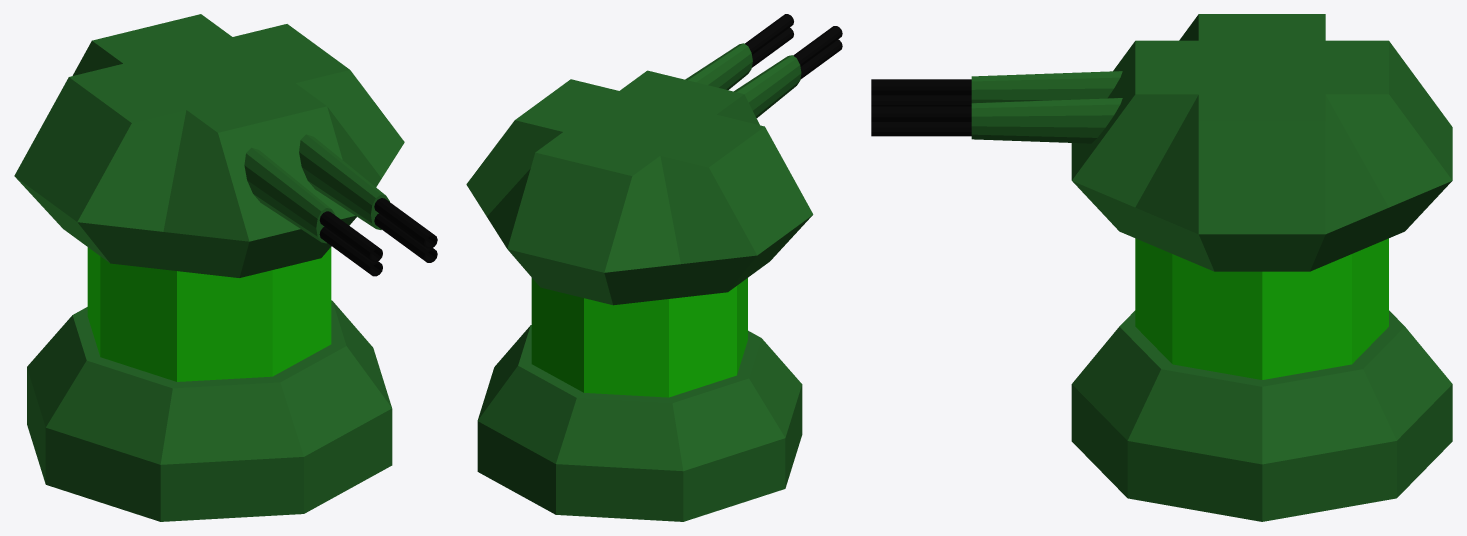
Rendered from Turret1_1.glb.
3 renders of one model, left to right at view 1: azimuth 30°, elevation 25°; view 2: azimuth 150°, elevation 25°; view 3: azimuth 270°, elevation 25°, orthographic. The views are drawn at different scales.
Visible parts, largest first — view 1: TurretUpgradePath1_1; view 2: TurretUpgradePath1_1; view 3: TurretUpgradePath1_1.
Part boxes in pixels (left/top/right/bottom): TurretUpgradePath1_1: left=14, top=14, right=437, bottom=521; TurretUpgradePath1_1: left=466, top=14, right=842, bottom=521; TurretUpgradePath1_1: left=871, top=14, right=1452, bottom=521.
Size of the model in its own units: 3 by 3.25 by 4.58.
